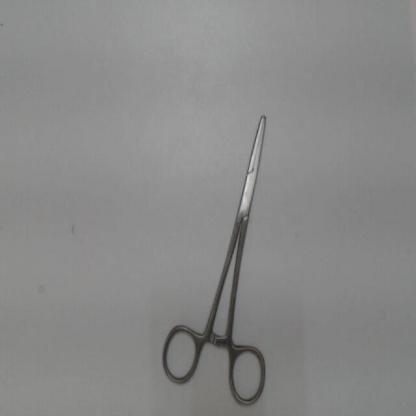Mayo Needle Holder: (155, 100, 275, 410)
